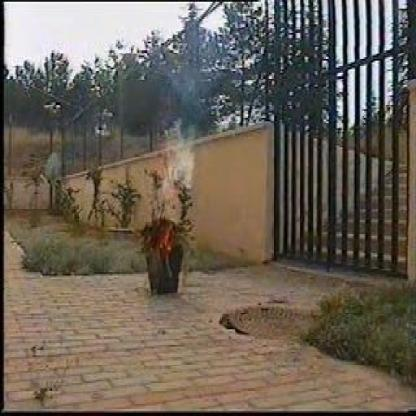foggia-v2-map80-epoch100 - v1 4323: (156, 222, 181, 249)
